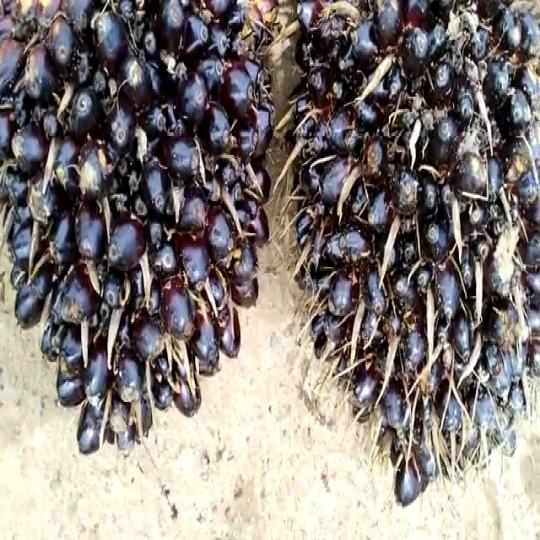mentah: (3, 0, 286, 460), (286, 0, 540, 490)
